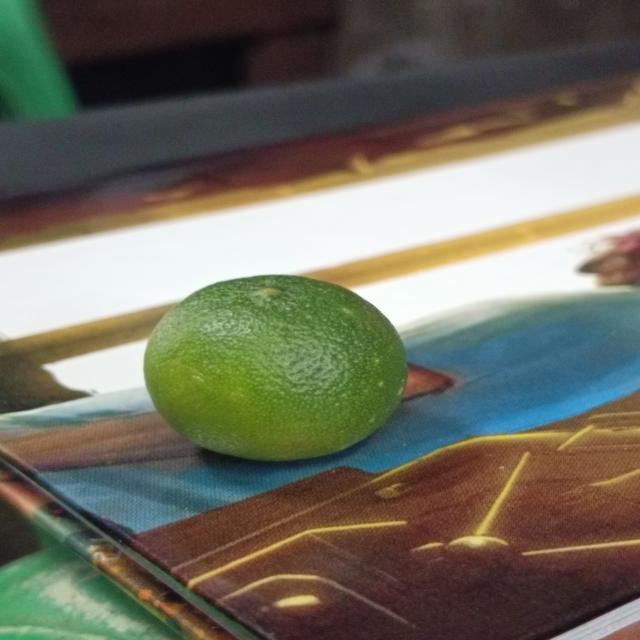heathy: (137, 267, 417, 463)
